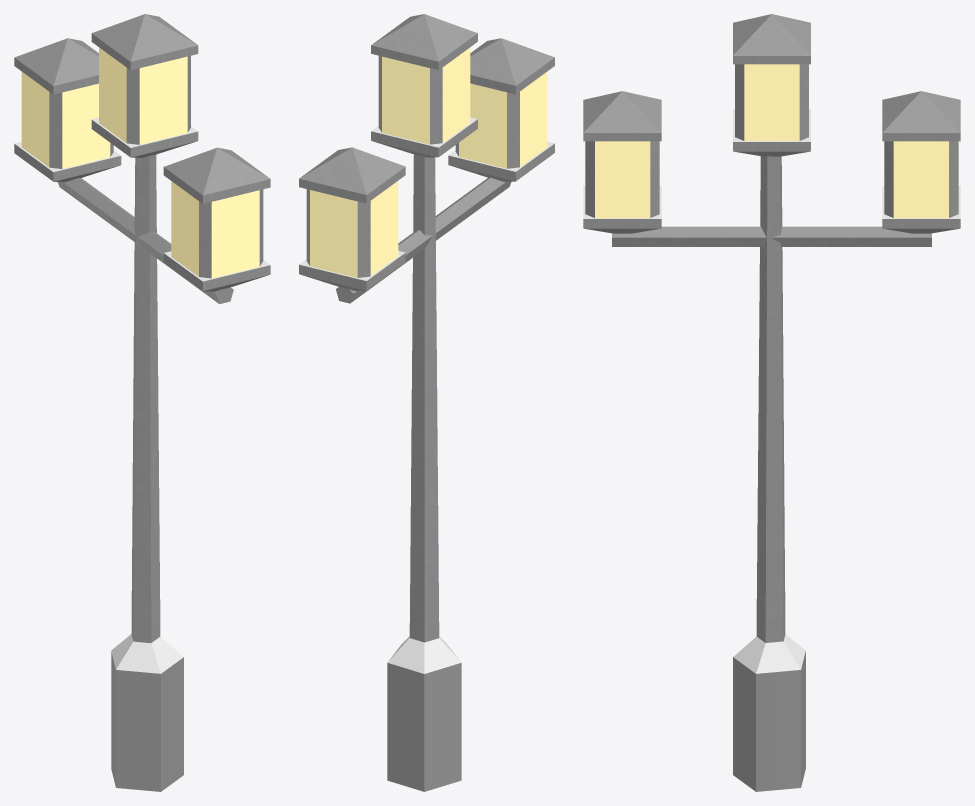
File: stolb.007.glb
The picture shows the model from 3 angles, left to right: view 1: azimuth 30°, elevation 25°; view 2: azimuth 150°, elevation 25°; view 3: azimuth 270°, elevation 25°; orthographic projection.
Visible parts, largest first — view 1: stolb.007(Clone); view 2: stolb.007(Clone); view 3: stolb.007(Clone).
Boxes of the visible parts, box(x1,y1,x2,y2) form: stolb.007(Clone): box(14, 14, 270, 791); stolb.007(Clone): box(299, 14, 554, 791); stolb.007(Clone): box(583, 14, 960, 791).
Bounding box in the file's own units: 0.3348 × 3.47 × 1.56.
Materials: 1 (1 with a texture image).
